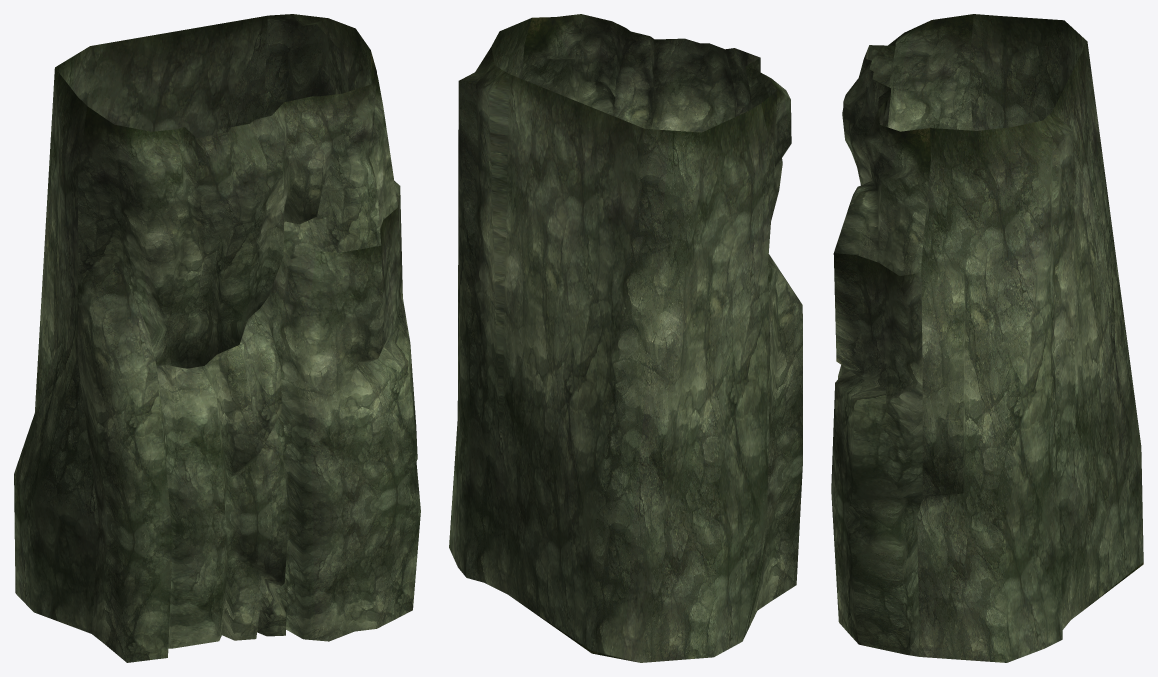
Rendered from s7_fightpve_shitou02.FBX.
3 renders of one model, left to right at view 1: azimuth 30°, elevation 25°; view 2: azimuth 150°, elevation 25°; view 3: azimuth 270°, elevation 25°, orthographic. The views are drawn at different scales.
Visible parts, largest first — view 1: 0000000000; view 2: 0000000000; view 3: 0000000000.
Boxes of the visible parts, <box> form: 0000000000: <box>14,14,420,662</box>; 0000000000: <box>449,14,802,662</box>; 0000000000: <box>831,14,1143,662</box>.
Size of the model in its own units: 1626 by 2496 by 1361.
